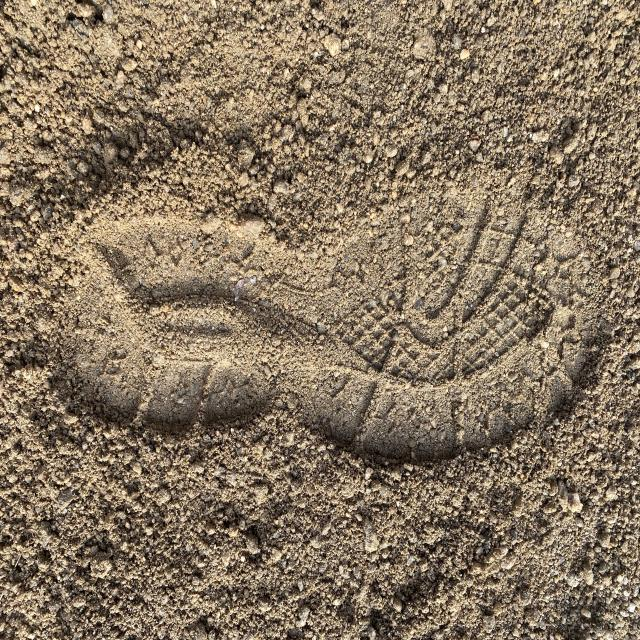human_footprint: (36, 162, 624, 494)
